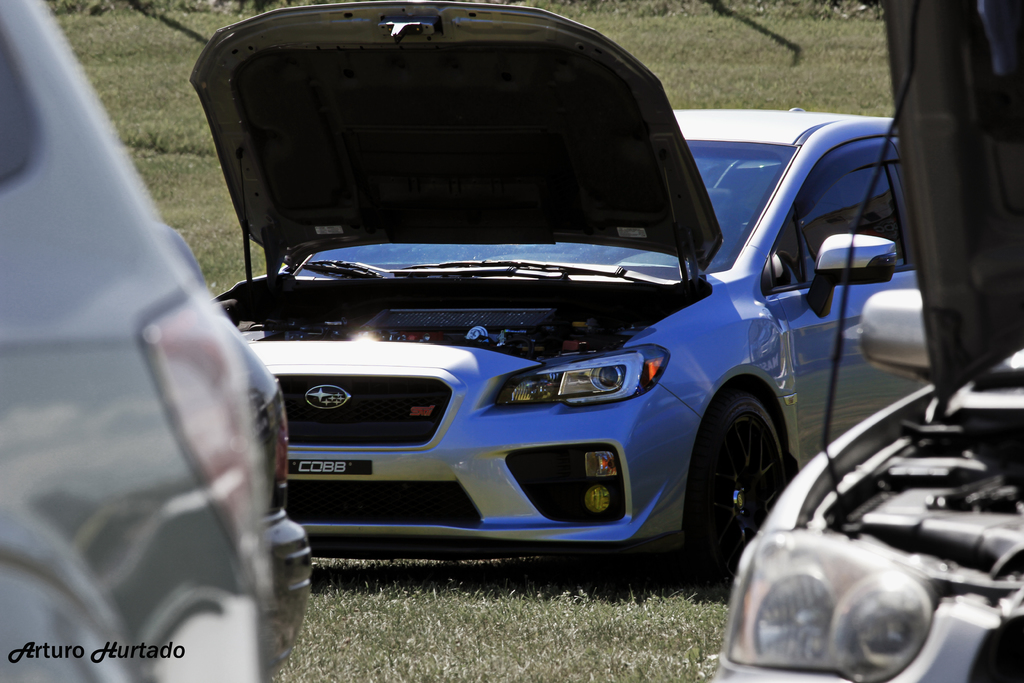Car: (209, 0, 920, 572), (704, 0, 1023, 682), (0, 0, 314, 682)
